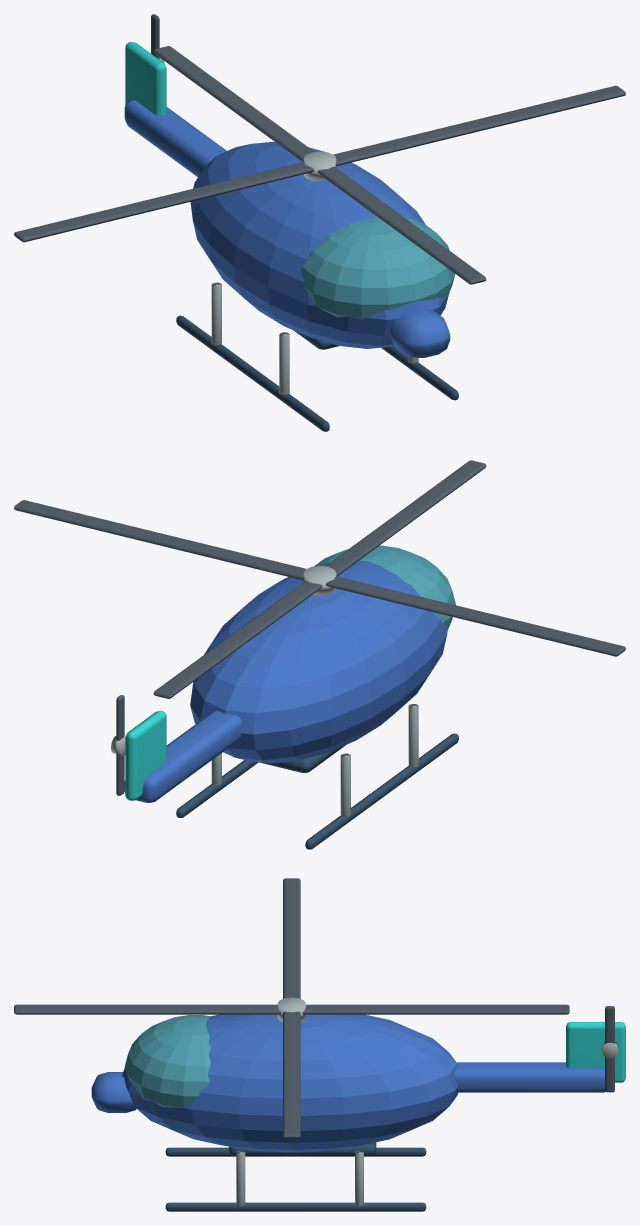
Rendered from HL_Helicopter_Seabird.fbx.
The picture shows the model from 3 angles, top to bottom: view 1: azimuth 30°, elevation 25°; view 2: azimuth 150°, elevation 25°; view 3: azimuth 270°, elevation 25°; orthographic projection. The views are drawn at different scales.
Visible parts, largest first — view 1: Helicopter | aerodynamic fuselage, Helicopter | glazed cockpit, Helicopter | main blade A, Helicopter | main blade B, Helicopter | tail boom, Helicopter | fin, Helicopter | nose, Helicopter | landing skid, Helicopter | landing skid.001, Helicopter | skid strut rear, Helicopter | skid strut front, Helicopter | main hub; view 2: Helicopter | aerodynamic fuselage, Helicopter | main blade A, Helicopter | main blade B, Helicopter | tail boom, Helicopter | glazed cockpit, Helicopter | fin, Helicopter | landing skid, Helicopter | landing skid.001, Helicopter | tail blade, Helicopter | skid strut rear, Helicopter | skid strut front, Helicopter | main hub (+1 smaller); view 3: Helicopter | aerodynamic fuselage, Helicopter | glazed cockpit, Helicopter | main blade B, Helicopter | main blade A, Helicopter | tail boom, Helicopter | landing skid.001, Helicopter | fin, Helicopter | nose, Helicopter | landing skid, Helicopter | landing belly, Helicopter | tail blade, Helicopter | skid strut front.001 (+2 smaller).
Boxes of the visible parts, x1,y1,x2,y2 form: Helicopter | aerodynamic fuselage: (190,142,449,348); Helicopter | glazed cockpit: (301,216,455,319); Helicopter | main blade A: (14,85,625,242); Helicopter | main blade B: (153,46,486,284); Helicopter | tail boom: (124,100,226,176); Helicopter | fin: (125,42,166,115); Helicopter | nose: (390,309,450,357); Helicopter | landing skid: (176,315,329,431); Helicopter | landing skid.001: (381,346,458,400); Helicopter | skid strut rear: (211,282,221,345); Helicopter | skid strut front: (279,332,289,395); Helicopter | main hub: (303,151,336,181); Helicopter | aerodynamic fuselage: (190,560,447,763); Helicopter | main blade A: (14,500,625,656); Helicopter | main blade B: (153,460,486,698); Helicopter | tail boom: (124,710,241,802); Helicopter | glazed cockpit: (314,545,455,630); Helicopter | fin: (125,711,166,800); Helicopter | landing skid: (305,733,458,849); Helicopter | landing skid.001: (176,760,258,817); Helicopter | tail blade: (116,695,124,795); Helicopter | skid strut rear: (340,753,350,816); Helicopter | skid strut front: (408,704,418,766); Helicopter | main hub: (303,566,336,595); Helicopter | aerodynamic fuselage: (122,1014,457,1152); Helicopter | glazed cockpit: (124,1015,210,1107); Helicopter | main blade B: (14,1004,569,1014); Helicopter | main blade A: (283,878,300,1138); Helicopter | tail boom: (454,1062,605,1092); Helicopter | landing skid.001: (165,1202,426,1211); Helicopter | fin: (566,1022,625,1082); Helicopter | nose: (91,1072,136,1112); Helicopter | landing skid: (165,1147,426,1156); Helicopter | landing belly: (229,1142,376,1156); Helicopter | tail blade: (605,1006,614,1092); Helicopter | skid strut front.001: (236,1150,245,1205).
Bounding box in the file's own units: 730 × 245 × 733.
